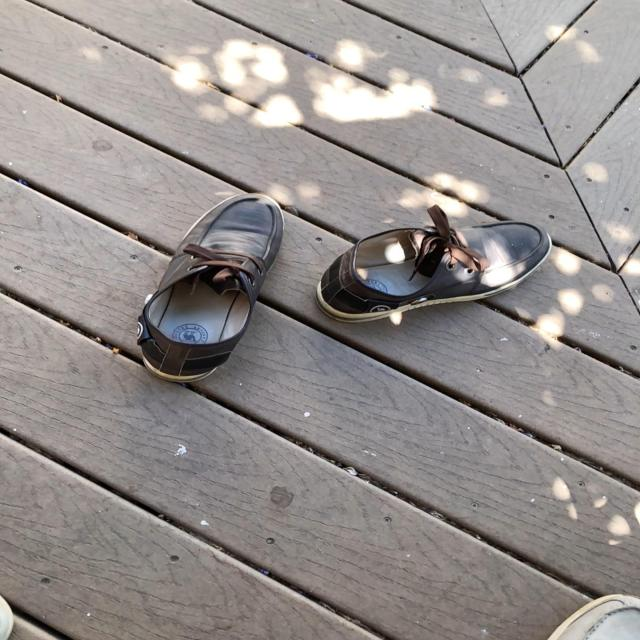shoe: (137, 196, 284, 383), (319, 221, 551, 319)
